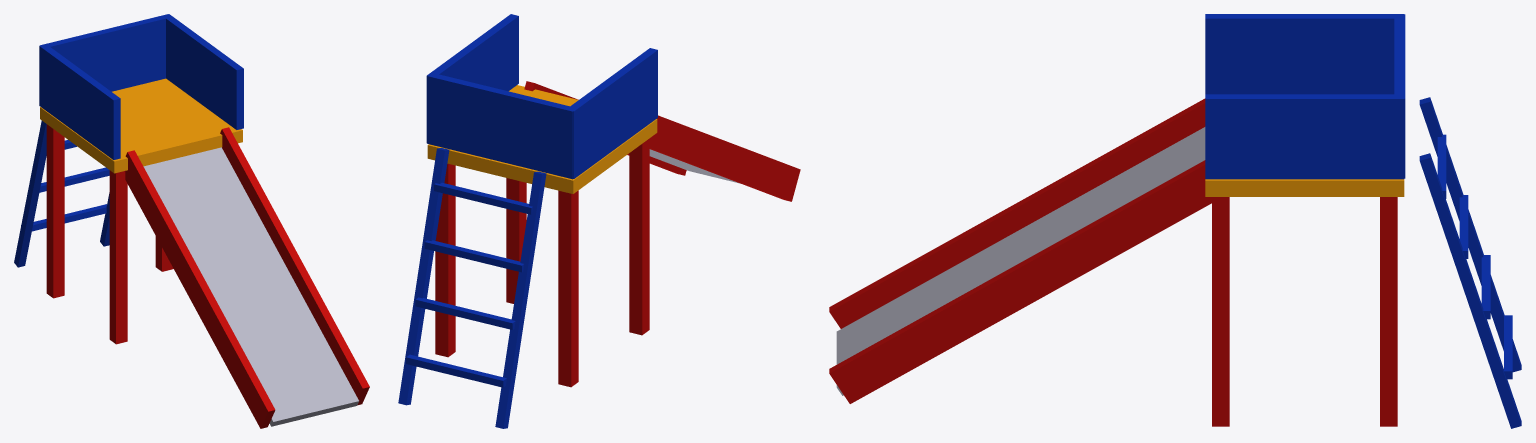
The model's file is slide.obj.
3 views of the same model, side by side, from view 1: azimuth 30°, elevation 25°; view 2: azimuth 150°, elevation 25°; view 3: azimuth 270°, elevation 25° (orthographic). The views are drawn at different scales.
Parts seen in each view (by area): view 1: slide; view 2: slide; view 3: slide.
Boxes of the visible parts, x1=… form: slide: x1=14, y1=14, x2=369, y2=428; slide: x1=398, y1=14, x2=800, y2=428; slide: x1=829, y1=14, x2=1521, y2=428.
Size of the model in its own units: 0.91 by 1.71 by 3.13.
